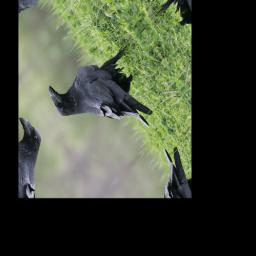Crow: (44, 21, 169, 177)
